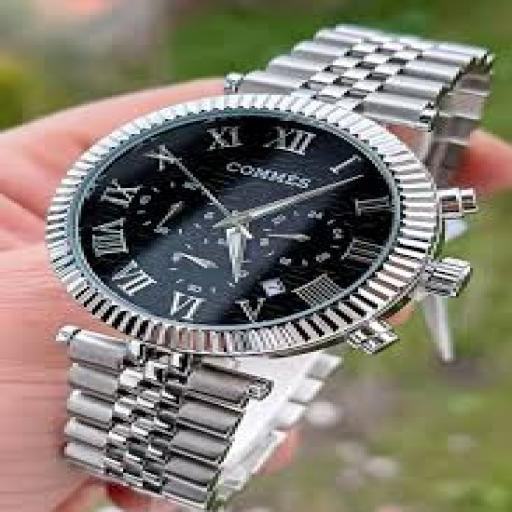KolSaati: (6, 6, 486, 492)
